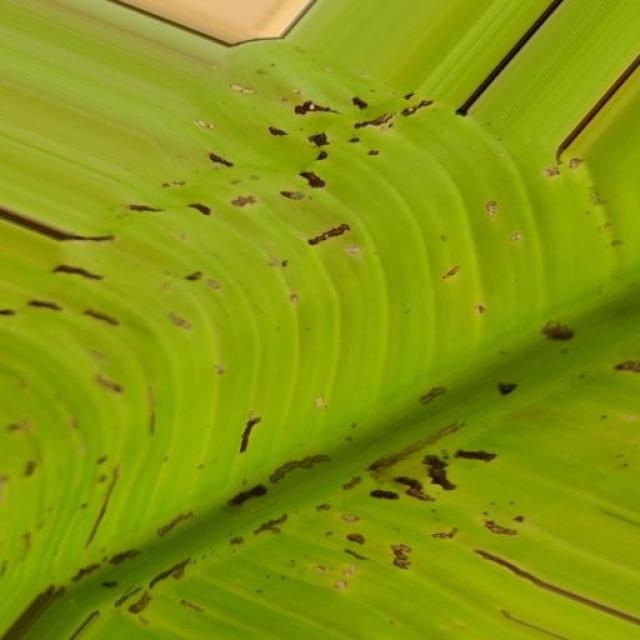Black_rot: (4, 77, 640, 640)
